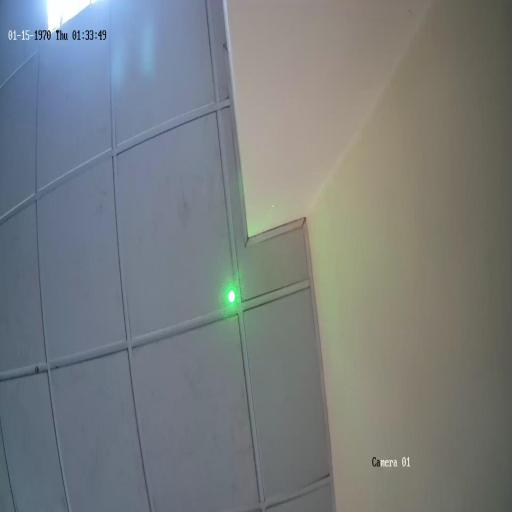laser: (218, 272, 243, 319)
